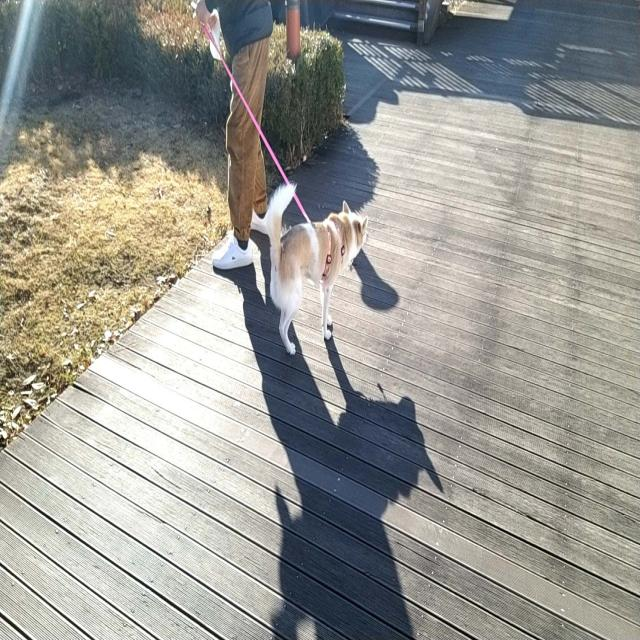Leashed_Dog: (196, 2, 370, 354)
